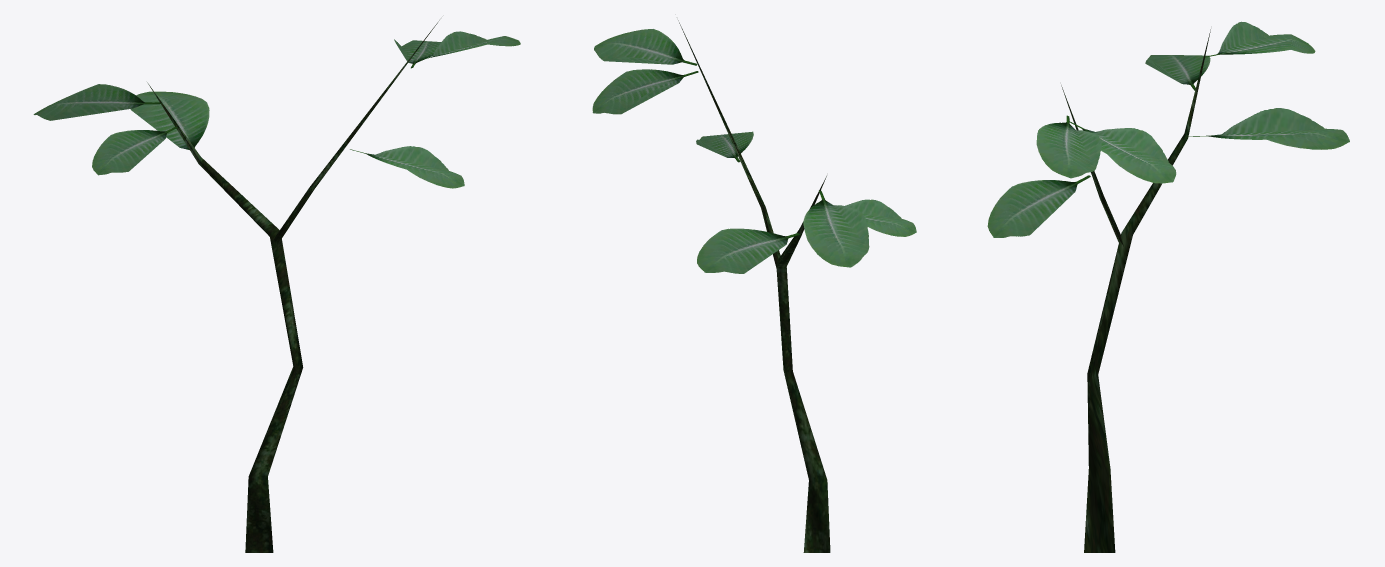
File: leaf_forestsprout_a2_l1.fbx
3 views of the same model, side by side, from view 1: azimuth 30°, elevation 25°; view 2: azimuth 150°, elevation 25°; view 3: azimuth 270°, elevation 25° (orthographic). The views are drawn at different scales.
Parts seen in each view (by area): view 1: mesh_node; view 2: mesh_node; view 3: mesh_node.
Boxes of the visible parts, box(x1,y1,x2,y2) form: mesh_node: box(33, 20, 520, 552); mesh_node: box(592, 20, 916, 552); mesh_node: box(987, 21, 1349, 552).
Size of the model in its own units: 0.5591 by 0.6589 by 0.4399.
Materials: 1 (1 with a texture image).
